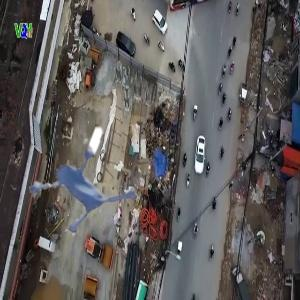drone: (15, 102, 166, 253)
